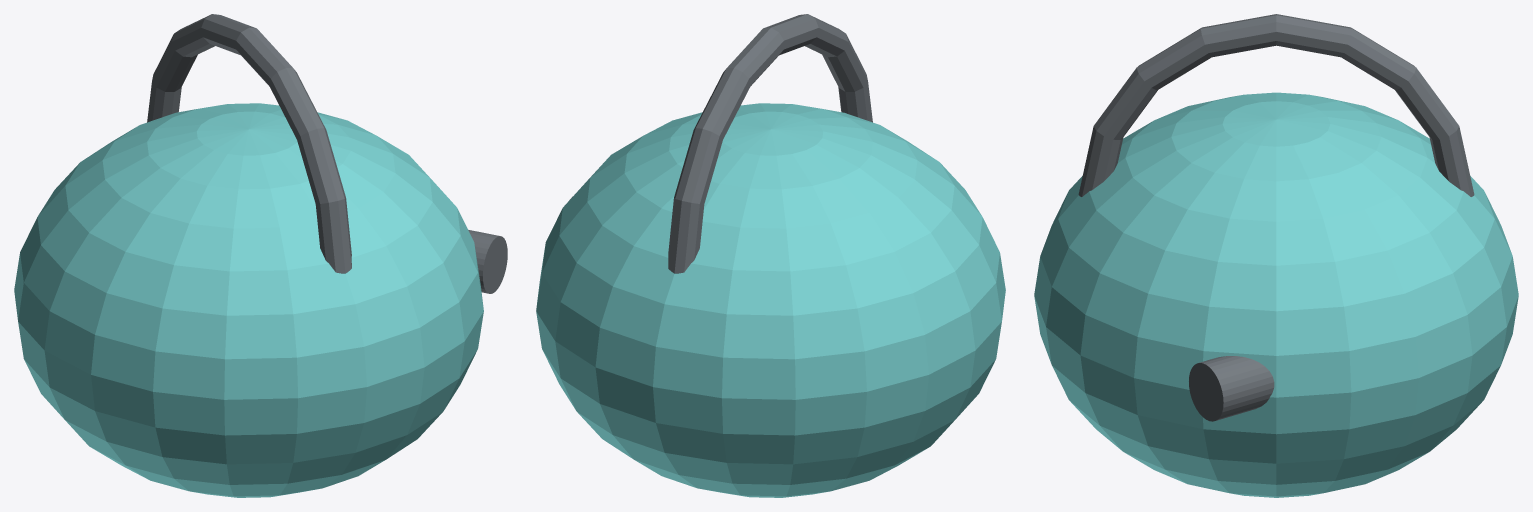
File: pickup.kettle.v1.glb
The picture shows the model from 3 angles, left to right: view 1: azimuth 30°, elevation 25°; view 2: azimuth 150°, elevation 25°; view 3: azimuth 270°, elevation 25°; orthographic projection. The views are drawn at different scales.
Visible parts, largest first — view 1: pickup.kettle.v1_body, pickup.kettle.v1_handle, pickup.kettle.v1_spout; view 2: pickup.kettle.v1_body, pickup.kettle.v1_handle; view 3: pickup.kettle.v1_body, pickup.kettle.v1_handle, pickup.kettle.v1_spout.
Boxes of the visible parts, x1,y1,x2,y2 form: pickup.kettle.v1_body: (14,103,483,497); pickup.kettle.v1_handle: (147,14,351,273); pickup.kettle.v1_spout: (468,230,507,293); pickup.kettle.v1_body: (536,103,1005,497); pickup.kettle.v1_handle: (668,14,872,273); pickup.kettle.v1_body: (1034,92,1518,497); pickup.kettle.v1_handle: (1078,14,1474,196); pickup.kettle.v1_spout: (1189,356,1274,421).
Bounding box in the file's own units: 0.5133 × 0.498 × 0.48.
